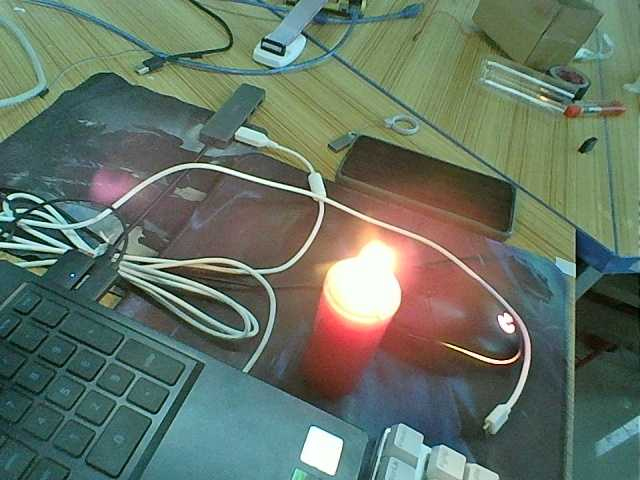candle: (296, 255, 405, 400)
fire: (341, 236, 403, 301)
